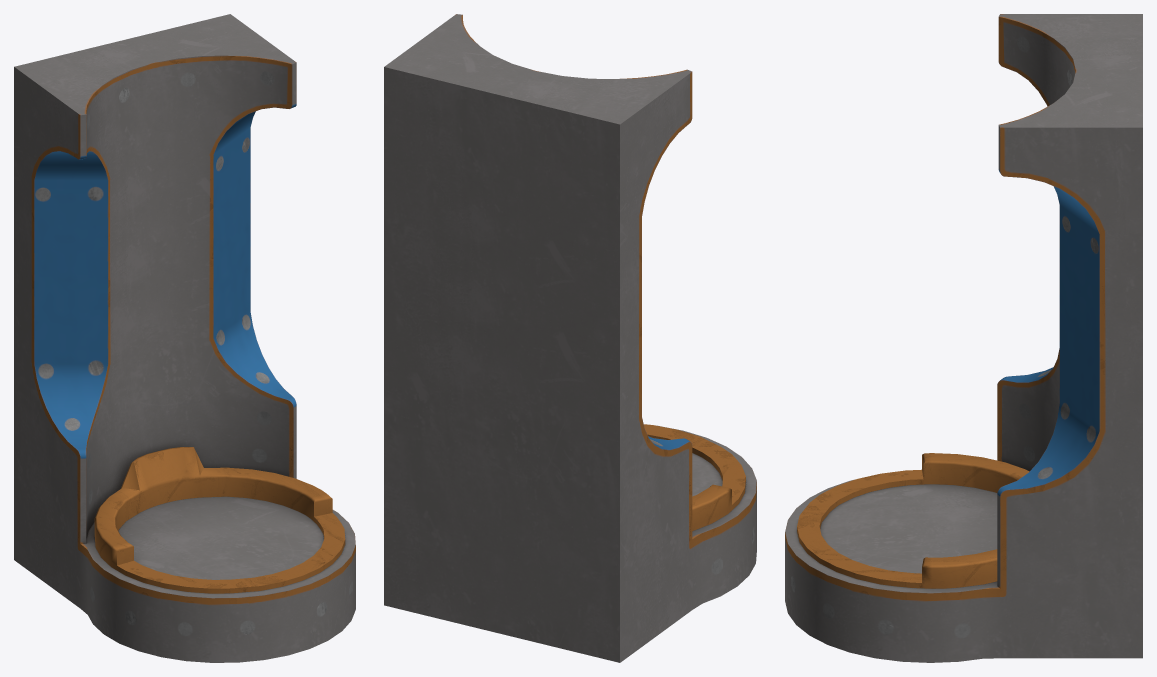
The model's file is PodiumDisplay.fbx.
3 renders of one model, left to right at view 1: azimuth 30°, elevation 25°; view 2: azimuth 150°, elevation 25°; view 3: azimuth 270°, elevation 25°, orthographic. The views are drawn at different scales.
Parts seen in each view (by area): view 1: PodiumDisplay1; view 2: PodiumDisplay1; view 3: PodiumDisplay1.
Boxes of the visible parts, <box> form: PodiumDisplay1: <box>14,14,355,662</box>; PodiumDisplay1: <box>384,14,756,662</box>; PodiumDisplay1: <box>785,14,1142,662</box>.
Size of the model in its own units: 171 by 345 by 211.
